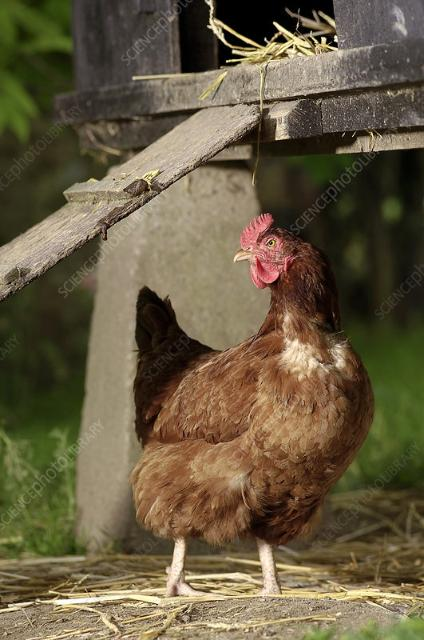Chicken: (133, 211, 376, 603)
